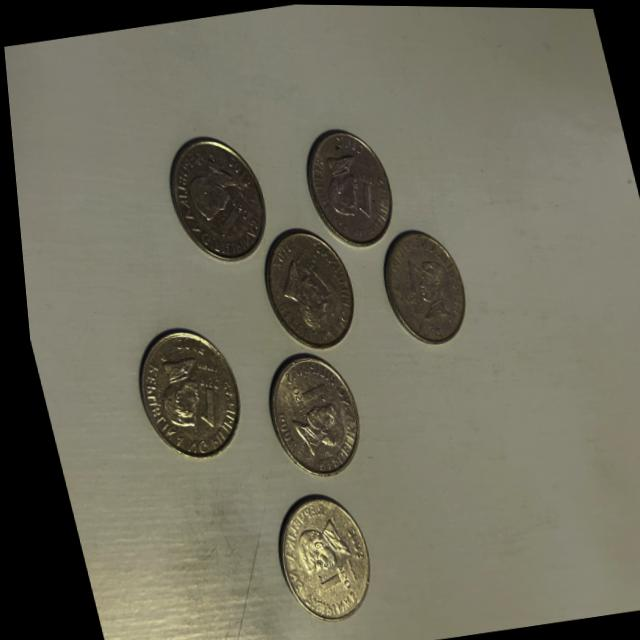1_Old_Front: (275, 237, 337, 314), (174, 360, 228, 437), (275, 361, 327, 420), (198, 184, 249, 241), (296, 553, 349, 606), (337, 159, 379, 223), (382, 252, 426, 308)
